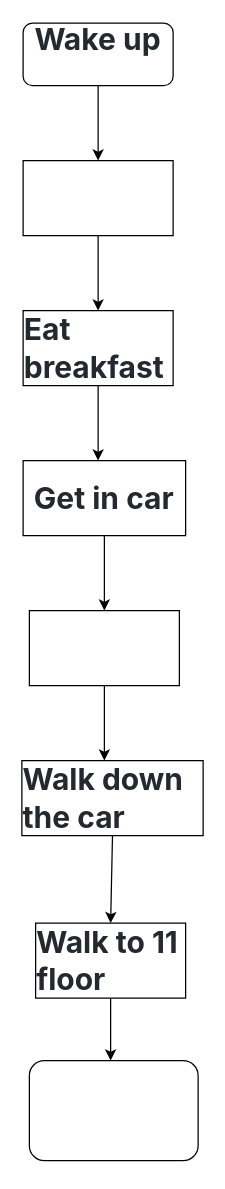
Some shapes in this 225 by 1189 pixel diagram are drawn without their labels. Each missing label, with the box of its shape:
Arrived at Newton: (28, 1059, 198, 1161)
Drive to school: (28, 609, 179, 686)
Take a shower: (22, 159, 173, 236)
